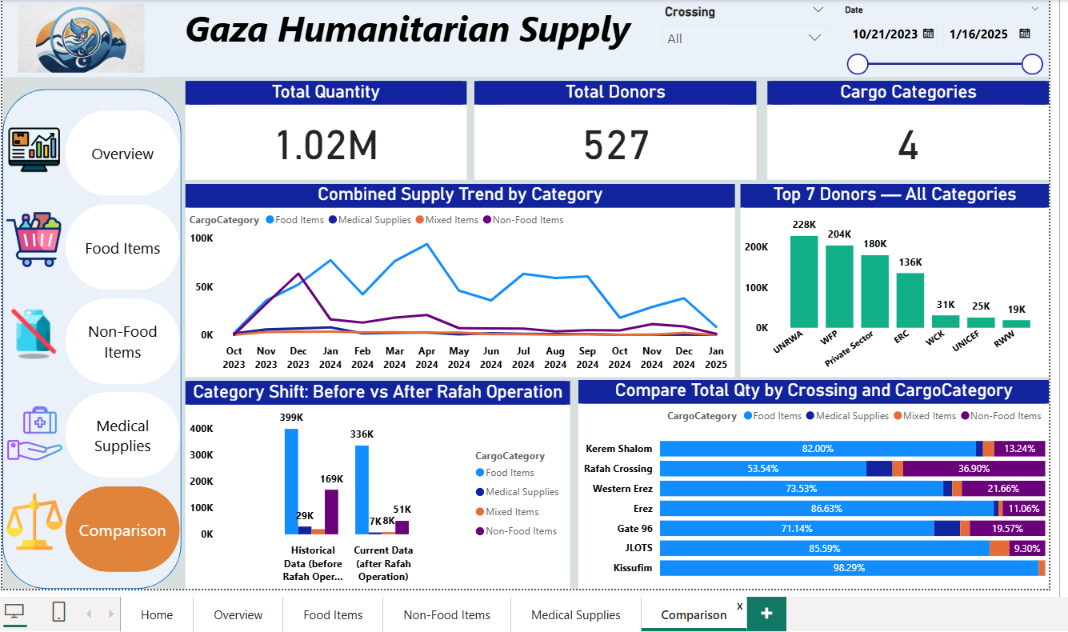

What the dashboard file says about the page in this screenshot:
{"tool":"powerbi","page":{"name":"Comparison","canvas":[1280,720],"ordinal":5},"visuals":[{"type":"shape","box":[0,108.8,218.9,611.4],"z":0},{"type":"shape","box":[0,1.3,192.8,92.5],"z":1000},{"type":"textbox","box":[192.8,0,604.1,93.8],"z":2000},{"type":"image","box":[0,0,193.2,94.2],"z":3000},{"type":"cardVisual","title":"Total Quantity","fields":{"Data":["gold cross_category_compare.Compare Total Qty"]},"box":[223.8,99,343.6,121.1],"z":4000},{"type":"cardVisual","title":"Cargo Categories","fields":{"Data":["gold cross_category_compare.Compare Categories"]},"box":[935.2,98.6,345.1,121.1],"z":5000},{"type":"cardVisual","title":"Total Donors","fields":{"Data":["gold cross_category_compare.Compare Donors"]},"box":[577.5,98.6,345.1,121.1],"z":6000},{"type":"clusteredColumnChart","title":"Category Shift: Before vs After Rafah Operation","fields":{"Y":["Sum(gold cross_category_compare.TotalQuantity)"],"Category":["gold cross_category_compare.DataPeriod"],"Series":["gold cross_category_compare.CargoCategory"]},"box":[224,465.3,470.7,254.7],"z":7000},{"type":"lineChart","title":"Combined Supply Trend by Category","fields":{"Category":["DateTable.YearMonth"],"Y":["Sum(gold cross_category_compare.TotalQuantity)"],"Series":["gold cross_category_compare.CargoCategory"]},"box":[223.8,225,672,236],"z":8000},{"type":"columnChart","title":"Top 7 Donors — All Categories","fields":{"Category":["gold cross_category_compare.DonatingOrg"],"Y":["gold cross_category_compare.Compare Total Qty"]},"box":[902.5,225,377.9,236],"z":9000},{"type":"hundredPercentStackedBarChart","fields":{"Category":["gold cross_category_compare.Crossing"],"Y":["gold cross_category_compare.Compare Total Qty"],"Series":["gold cross_category_compare.CargoCategory"]},"box":[704.2,464.8,576.1,254.9],"z":10000},{"type":"group","id":"g1","title":"Group 1","box":[0,134,218.1,565.9],"z":11000},{"type":"slicer","fields":{"Values":["gold cross_category_compare.Crossing"]},"box":[797.3,0,220,93.3],"z":12000},{"type":"slicer","title":"Date","fields":{"Values":["DateTable.Date"]},"box":[1017,0,263,93.2],"z":13000},{"type":"pageNavigator","box":[77.4,134,140.7,565.9],"z":13000,"group":"g1"},{"type":"image","box":[0,145.9,77.4,73.2],"z":14000,"group":"g1"},{"type":"image","box":[0,247.5,77.4,89.6],"z":15000,"group":"g1"},{"type":"image","box":[0,360.9,77.4,86.6],"z":16000,"group":"g1"},{"type":"image","box":[1.4,483.4,77.4,91.1],"z":17000,"group":"g1"},{"type":"image","box":[0,595.4,78.8,85.1],"z":18000,"group":"g1"}]}

Visuals, with their boxes on the page's 1280x720 design canvas (x1, y1, x2, y2). These are canvas units, not pixel positions in the 1068x632 screenshot, which may show the page scaled, cropped or inside an application window:
shape: bbox=(0, 109, 219, 720)
shape: bbox=(0, 1, 193, 94)
textbox: bbox=(193, 0, 797, 94)
image: bbox=(0, 0, 193, 94)
"Total Quantity" cardVisual: bbox=(224, 99, 567, 220)
"Cargo Categories" cardVisual: bbox=(935, 99, 1280, 220)
"Total Donors" cardVisual: bbox=(578, 99, 923, 220)
"Category Shift: Before vs After Rafah Operation" clusteredColumnChart: bbox=(224, 465, 695, 720)
"Combined Supply Trend by Category" lineChart: bbox=(224, 225, 896, 461)
"Top 7 Donors — All Categories" columnChart: bbox=(902, 225, 1280, 461)
hundredPercentStackedBarChart - gold cross_category_compare.Crossing x gold cross_category_compare.Compare Total Qty: bbox=(704, 465, 1280, 720)
"Group 1" group: bbox=(0, 134, 218, 700)
slicer - gold cross_category_compare.Crossing: bbox=(797, 0, 1017, 93)
"Date" slicer: bbox=(1017, 0, 1280, 93)
pageNavigator: bbox=(77, 134, 218, 700)
image: bbox=(0, 146, 77, 219)
image: bbox=(0, 248, 77, 337)
image: bbox=(0, 361, 77, 448)
image: bbox=(1, 483, 79, 574)
image: bbox=(0, 595, 79, 680)
